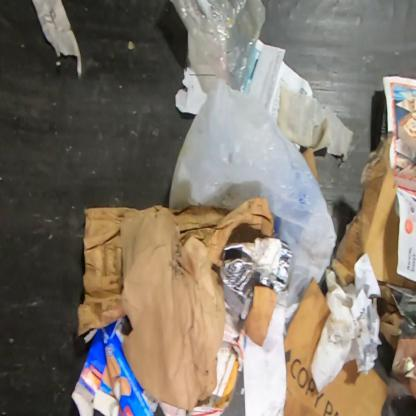cardboard: (76, 197, 274, 341), (119, 210, 226, 412), (283, 276, 390, 415), (331, 132, 415, 292), (70, 315, 161, 415), (242, 286, 279, 347), (301, 147, 319, 186)
soft_plastic: (168, 77, 337, 305), (170, 0, 266, 93), (219, 237, 291, 302)
